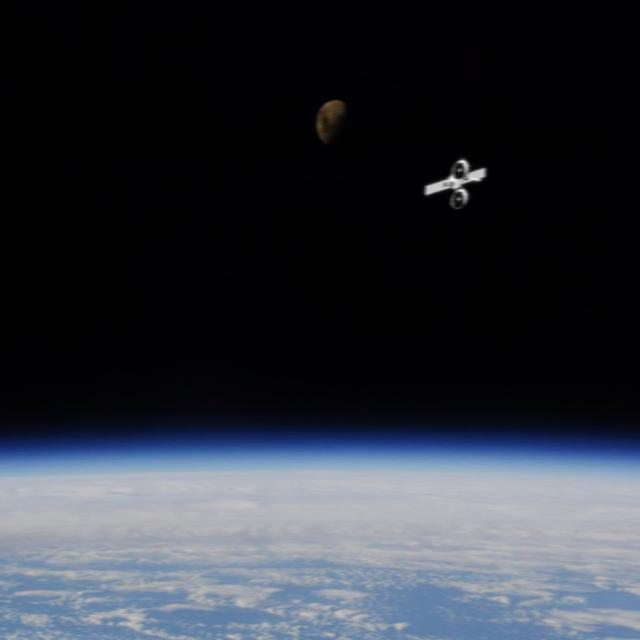satellite: (413, 153, 506, 218)
